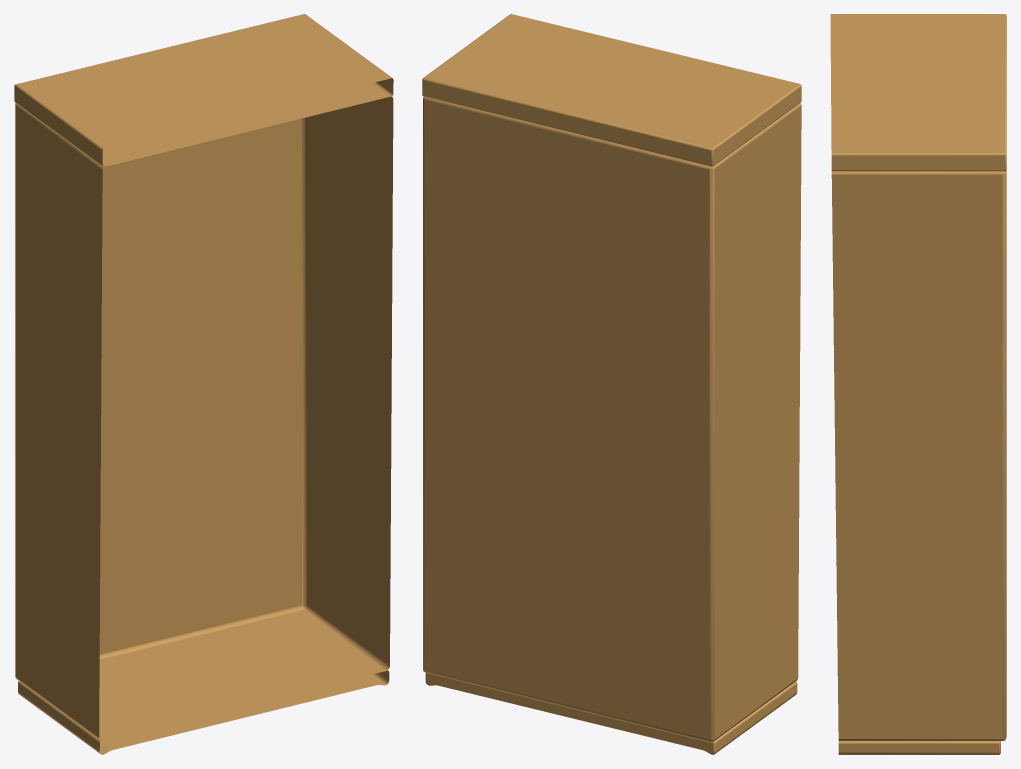
The model's file is 131Main.obj.
3 views of the same model, side by side, from view 1: azimuth 30°, elevation 25°; view 2: azimuth 150°, elevation 25°; view 3: azimuth 270°, elevation 25° (orthographic).
Parts seen in each view (by area): view 1: 131.001; view 2: 131.001; view 3: 131.001.
Boxes of the visible parts, left/top/right/bottom form: 131.001: left=14, top=14, right=393, bottom=754; 131.001: left=422, top=14, right=801, bottom=754; 131.001: left=830, top=14, right=1006, bottom=754.
Size of the model in its own units: 0.9 by 1.8 by 0.4761.
